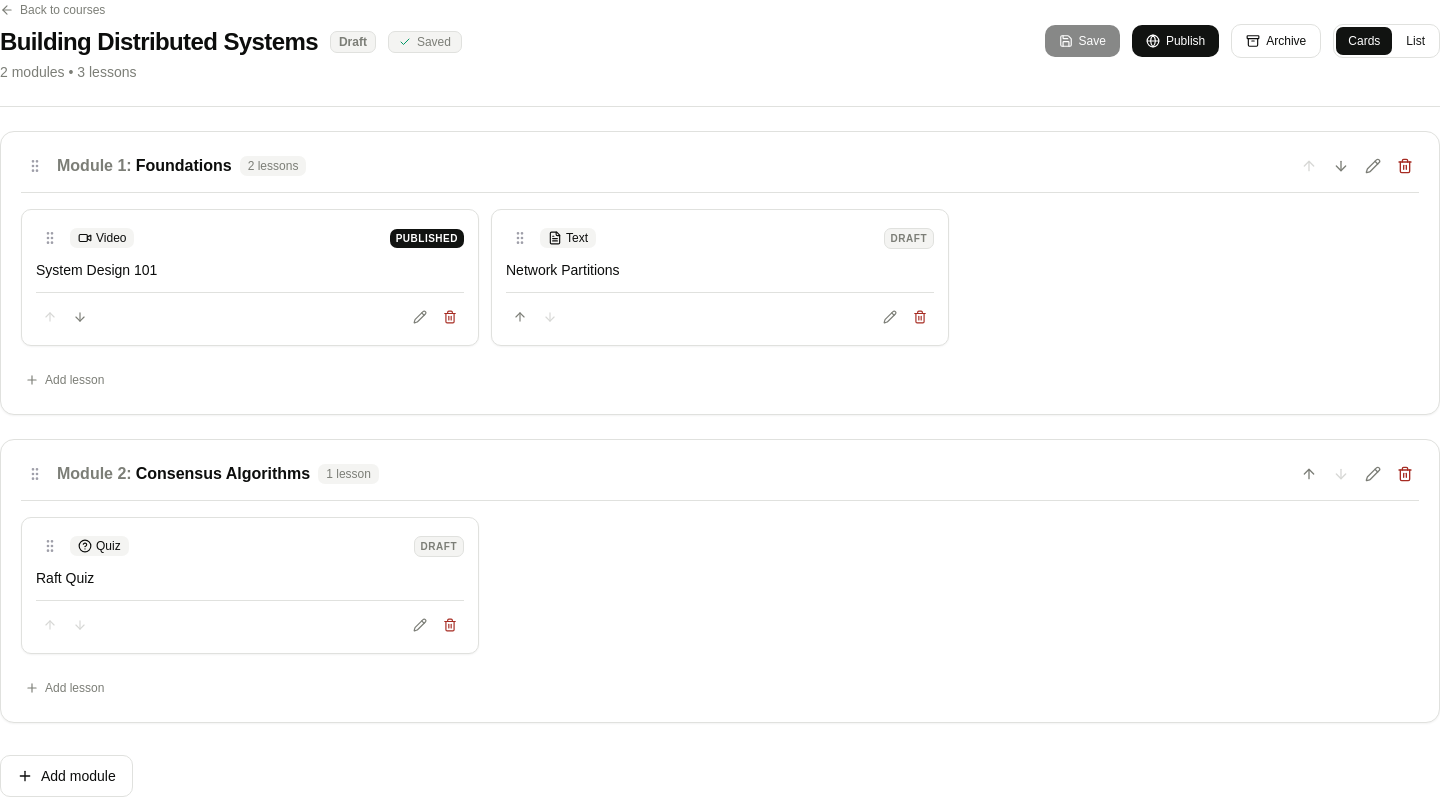
Test: CourseOutlineBuilder › opens publish modal and displays preflight validation errors if incomplete
This screenshot has width=1440, height=810.
Open modal
Click the button with aria-label "Publish course".
click(1176, 41)  # box x1=1132 y1=25 x2=1219 y2=57
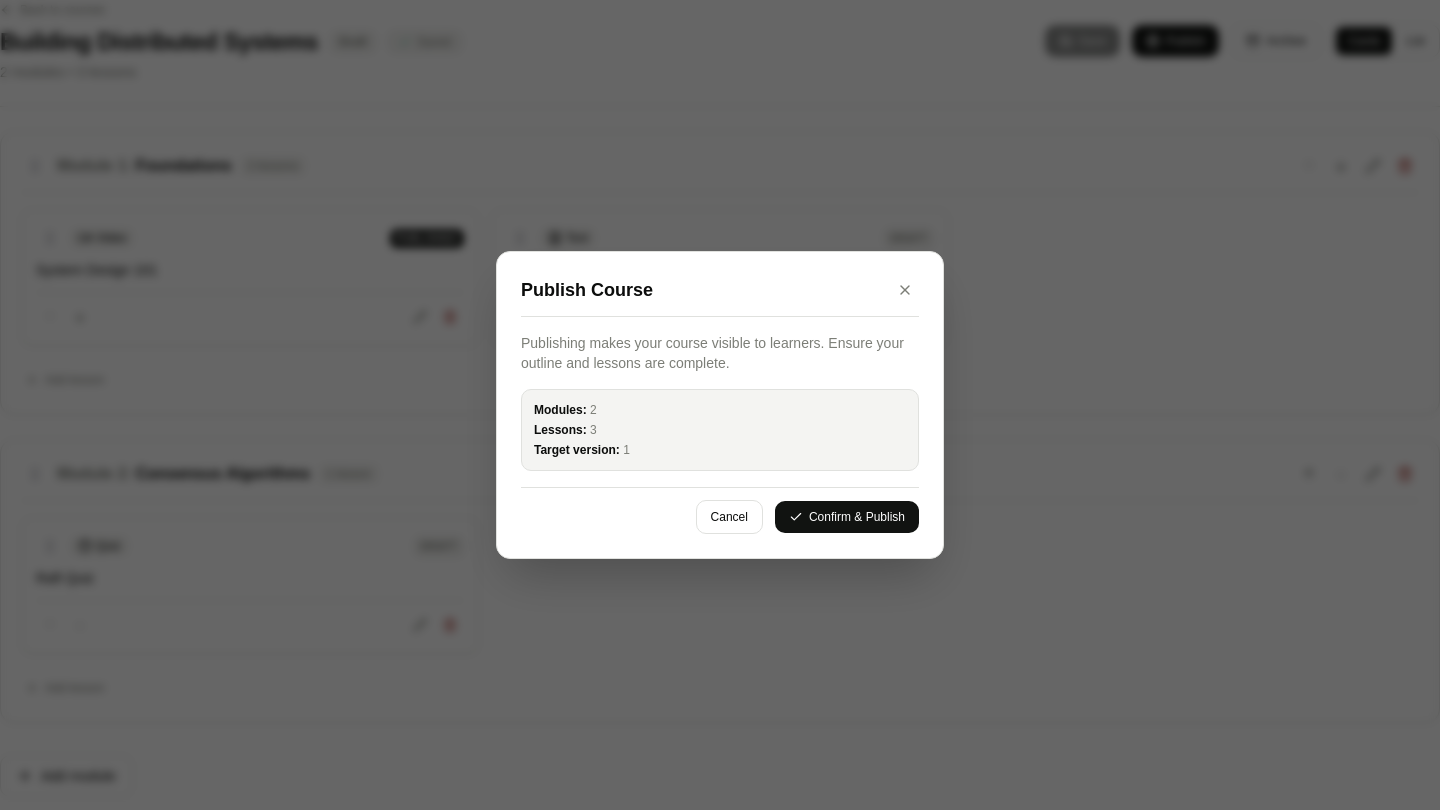
Expected: the dialog is shown
Expected: the heading "Publish Course" is shown, x1=521 y1=276 x2=653 y2=304
Confirm publish
Click the button "Confirm & Publish".
click(847, 517)  # box x1=775 y1=501 x2=919 y2=533
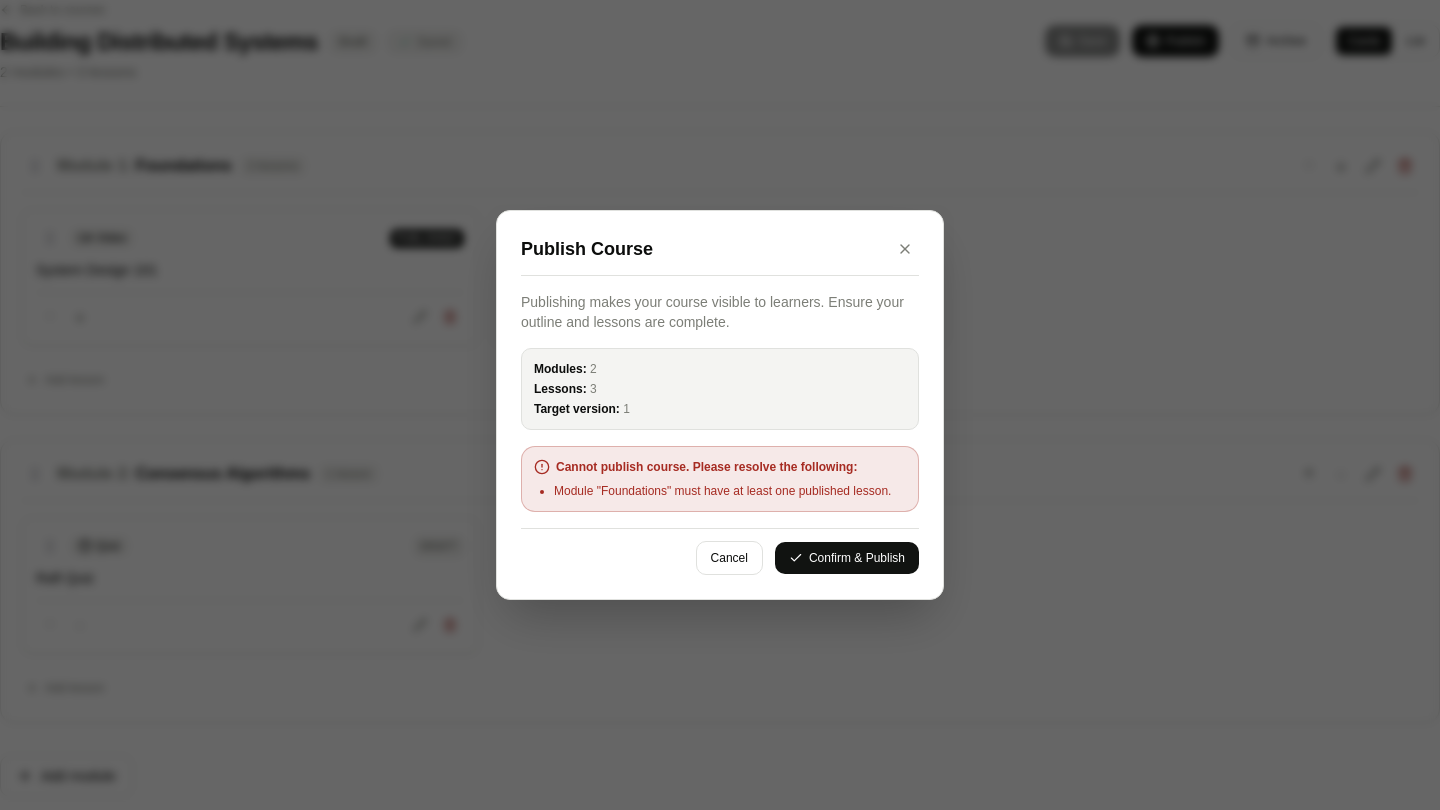
Expected: the message is shown, x1=521 y1=446 x2=919 y2=512
Expected: the list item "Module \"Foundations\" must have at least one published lesson." is shown, x1=554 y1=483 x2=906 y2=499
Cancel closes modal
Click the button "Cancel".
click(729, 558)  # box x1=696 y1=541 x2=763 y2=575
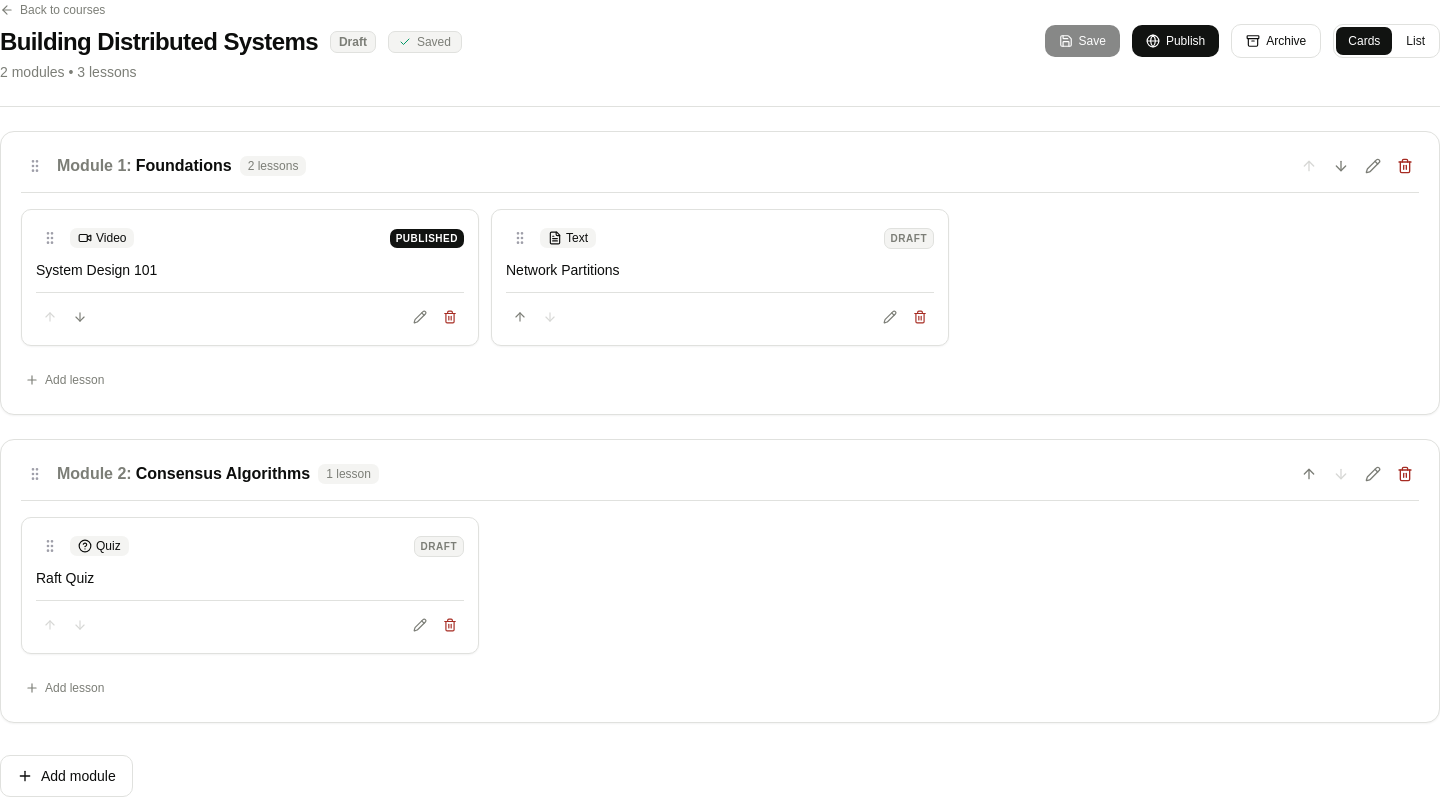
Expected: the dialog is gone
